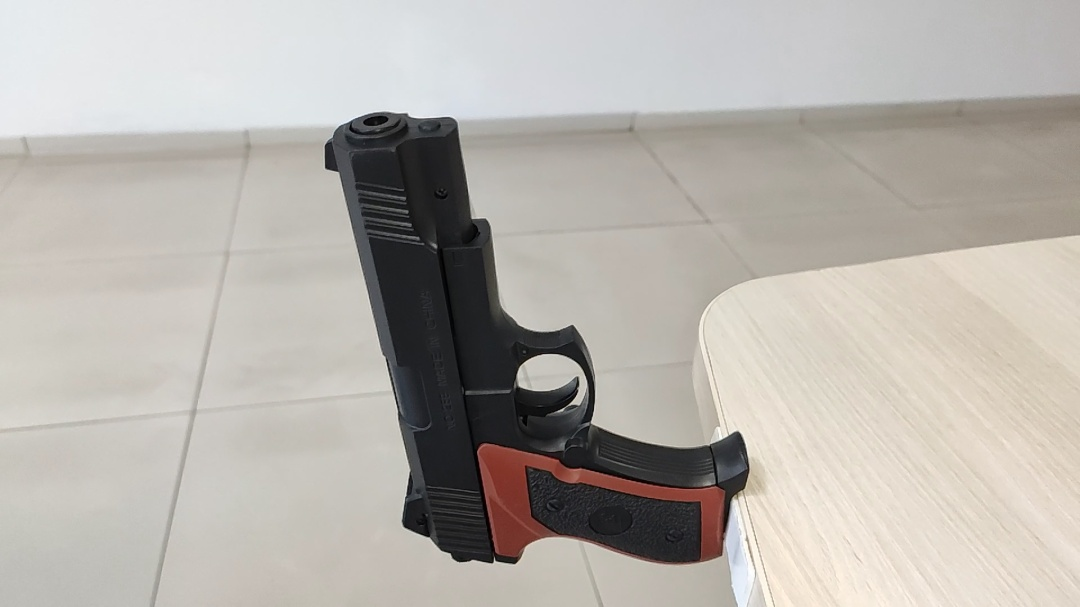gun: (319, 108, 752, 568)
